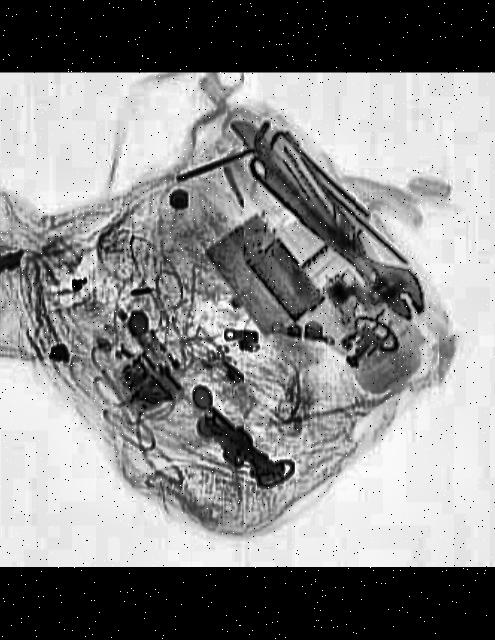Wrench: (234, 140, 438, 325)
